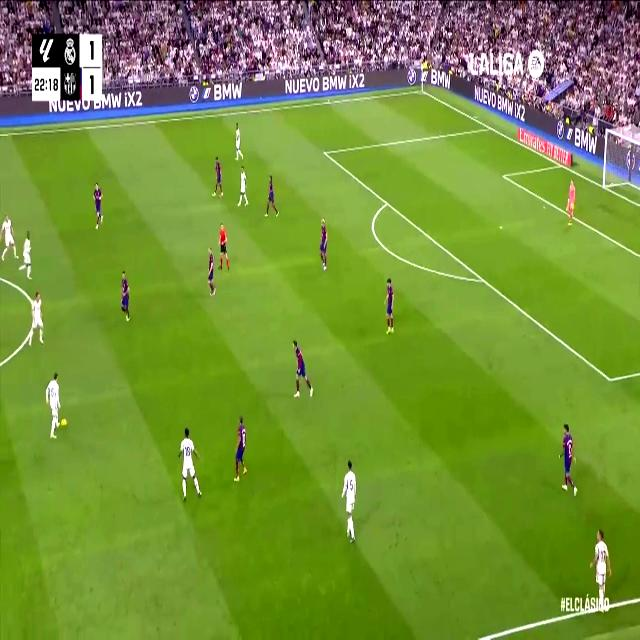bigarea_bottom_inner: (604, 366, 616, 392)
bigarea_top_inner: (321, 144, 328, 160)
bigarea_top_outter: (486, 120, 493, 133)
bottom_arc_area_intersection: (478, 270, 487, 288)
corner: (418, 85, 427, 95)
smallarea_top_inner: (500, 169, 507, 182)
top_arc_area_intersection: (383, 194, 391, 210)
